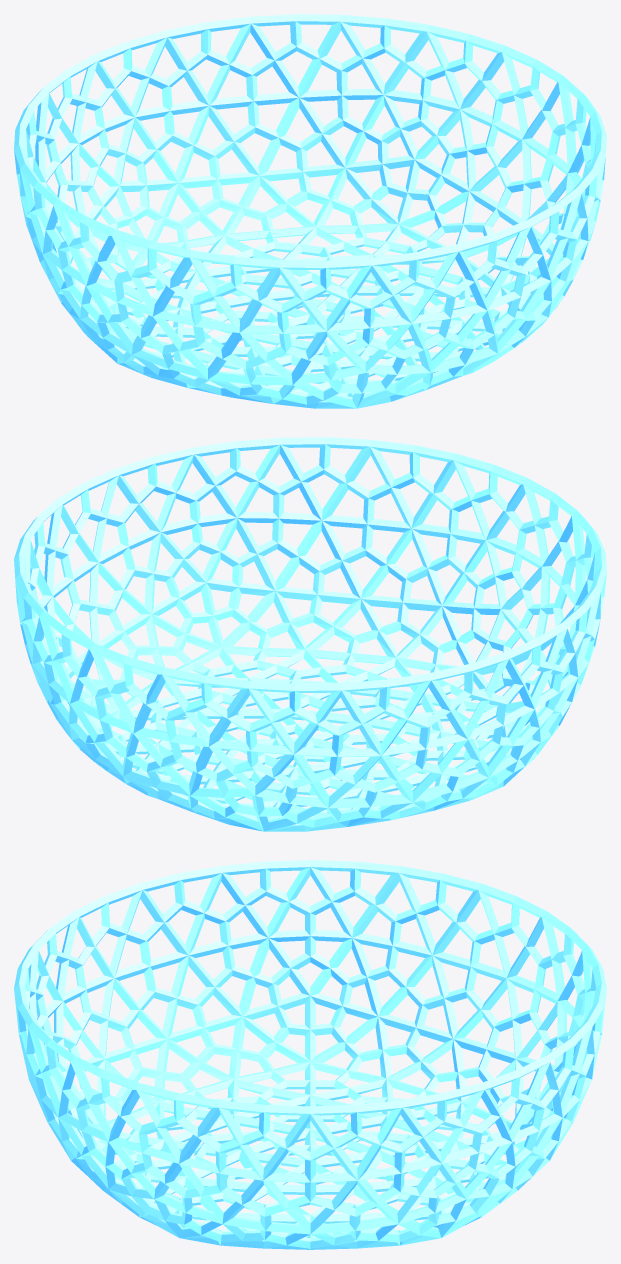
File: bowl.glb
The picture shows the model from 3 angles, top to bottom: view 1: azimuth 30°, elevation 25°; view 2: azimuth 150°, elevation 25°; view 3: azimuth 270°, elevation 25°; orthographic projection.
Parts seen in each view (by area): view 1: Y_UP; view 2: Y_UP; view 3: Y_UP.
Part boxes in pixels (x1,y1,x2,y2): Y_UP: [14, 14, 606, 408]; Y_UP: [14, 437, 606, 831]; Y_UP: [14, 860, 606, 1249].
Bounding box in the file's own units: 2 × 0.6927 × 2.
